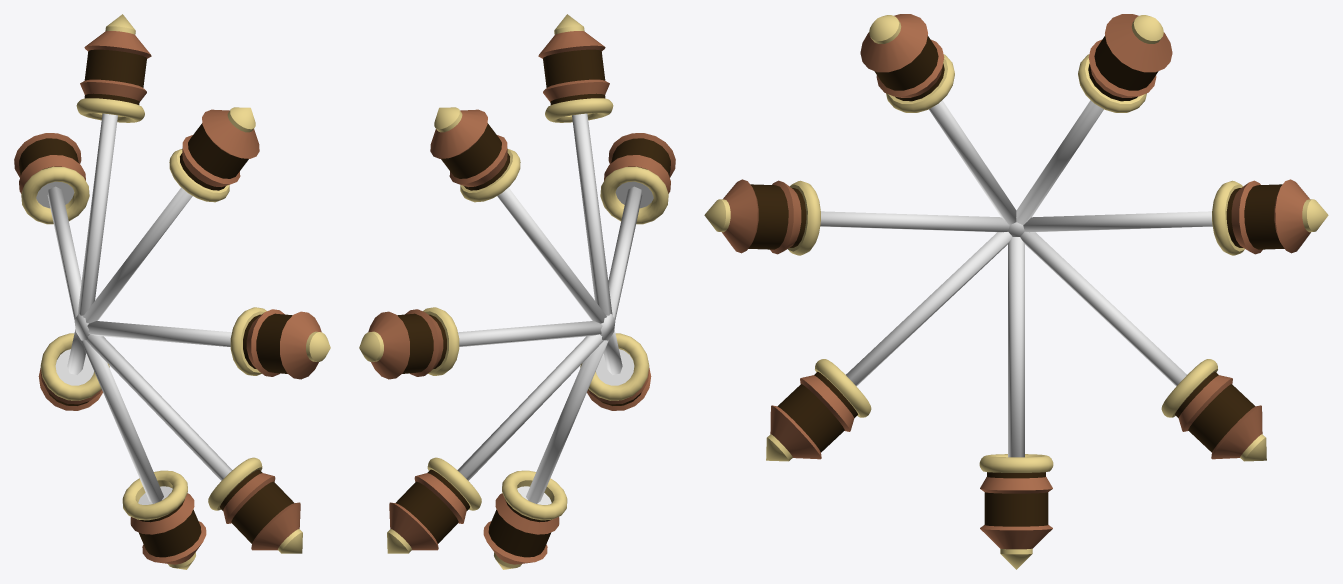
File: Emitter.fbx
The picture shows the model from 3 angles, left to right: view 1: azimuth 30°, elevation 25°; view 2: azimuth 150°, elevation 25°; view 3: azimuth 270°, elevation 25°; orthographic projection. The views are drawn at different scales.
Visible parts, largest first — view 1: Emetteur, Rayon; view 2: Emetteur, Rayon; view 3: Emetteur, Rayon.
Part boxes in pixels (left/top/right/bottom): Emetteur: left=14, top=14, right=330, bottom=569; Rayon: left=47, top=113, right=232, bottom=503; Emetteur: left=359, top=14, right=675, bottom=569; Rayon: left=457, top=113, right=642, bottom=503; Emetteur: left=704, top=14, right=1328, bottom=569; Rayon: left=820, top=100, right=1212, bottom=457.
Size of the model in its own units: 0.0165 by 0.0668 by 0.0685.
